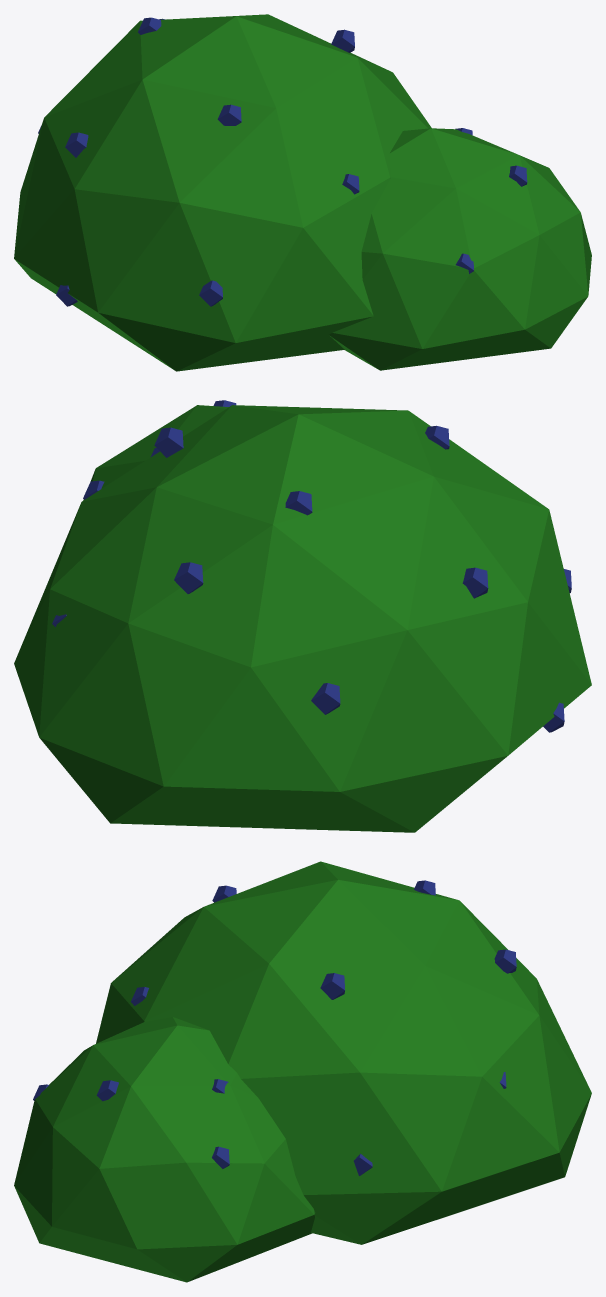
Rendered from BlueBerryBush.fbx.
3 views of the same model, one above another, from view 1: azimuth 30°, elevation 25°; view 2: azimuth 150°, elevation 25°; view 3: azimuth 270°, elevation 25° (orthographic). The views are drawn at different scales.
Parts seen in each view (by area): view 1: BlueBerry; view 2: BlueBerry; view 3: BlueBerry.
Part boxes in pixels (box(x1,y1,x2,y2)): BlueBerry: box(14, 14, 591, 371); BlueBerry: box(14, 400, 591, 832); BlueBerry: box(14, 861, 591, 1282).
Bounding box in the file's own units: 234 × 131 × 248.
